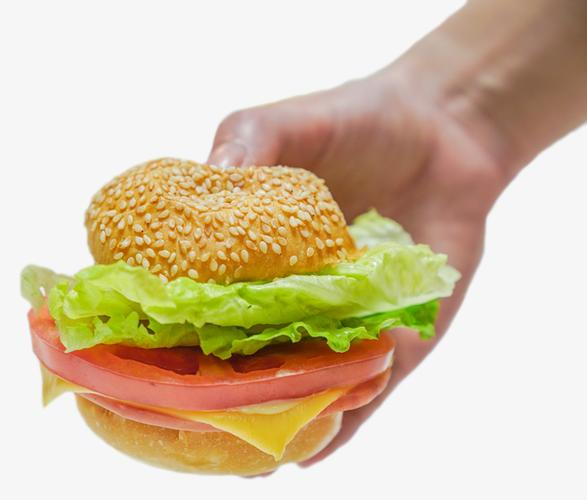no-phone: (77, 31, 514, 467)
